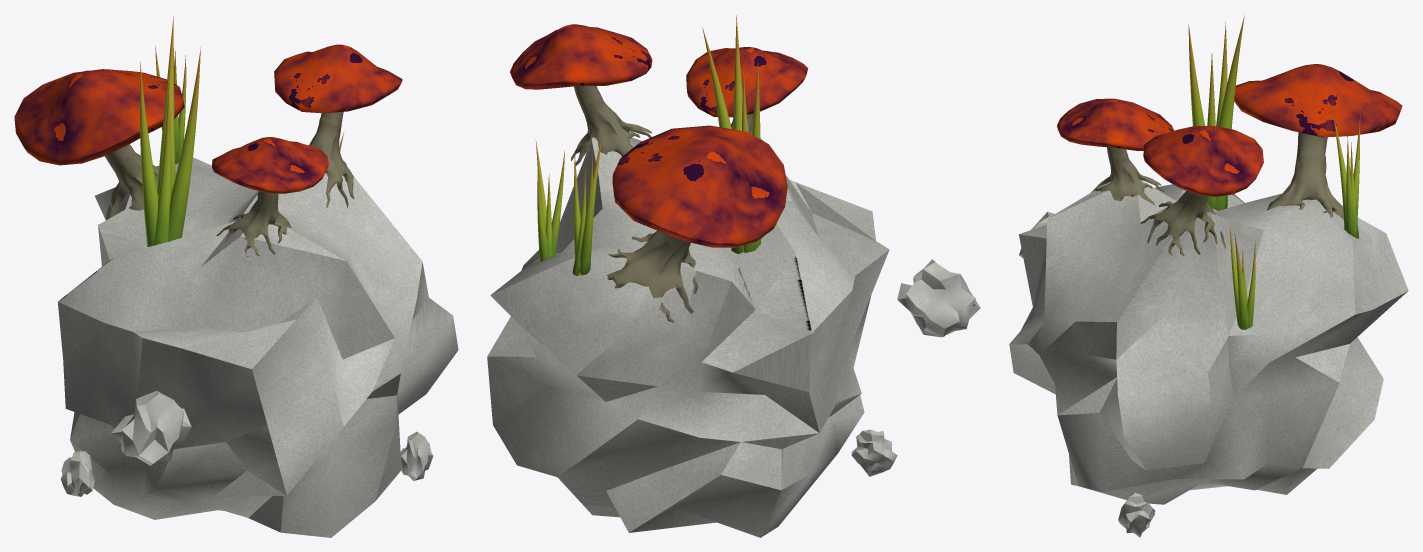
3 views of the same model, side by side, from view 1: azimuth 30°, elevation 25°; view 2: azimuth 150°, elevation 25°; view 3: azimuth 270°, elevation 25° (orthographic). The views are drawn at different scales.
Parts seen in each view (by area): view 1: Roche4, Champignon_1, Herbe_1, Roche2, Roche1, Roche3; view 2: Roche4, Champignon_1, Herbe_1, Roche2, Roche1; view 3: Roche4, Champignon_1, Herbe_1, Roche3.
Boxes of the visible parts, left/top/right/bottom form: Roche4: left=58, top=157, right=458, bottom=537; Champignon_1: left=14, top=44, right=402, bottom=257; Herbe_1: left=139, top=16, right=344, bottom=246; Roche2: left=111, top=390, right=191, bottom=465; Roche1: left=60, top=451, right=94, bottom=496; Roche3: left=400, top=431, right=433, bottom=480; Roche4: left=487, top=137, right=889, bottom=537; Champignon_1: left=510, top=24, right=808, bottom=322; Herbe_1: left=535, top=15, right=762, bottom=275; Roche2: left=897, top=259, right=980, bottom=337; Roche1: left=851, top=429, right=897, bottom=476; Roche4: left=1009, top=179, right=1408, bottom=504; Champignon_1: left=1057, top=64, right=1402, bottom=255; Herbe_1: left=1188, top=16, right=1360, bottom=329; Roche3: left=1118, top=492, right=1155, bottom=537.
Bounding box in the file's own units: 152 × 185 × 149.
Materials: 6 (6 with a texture image).
